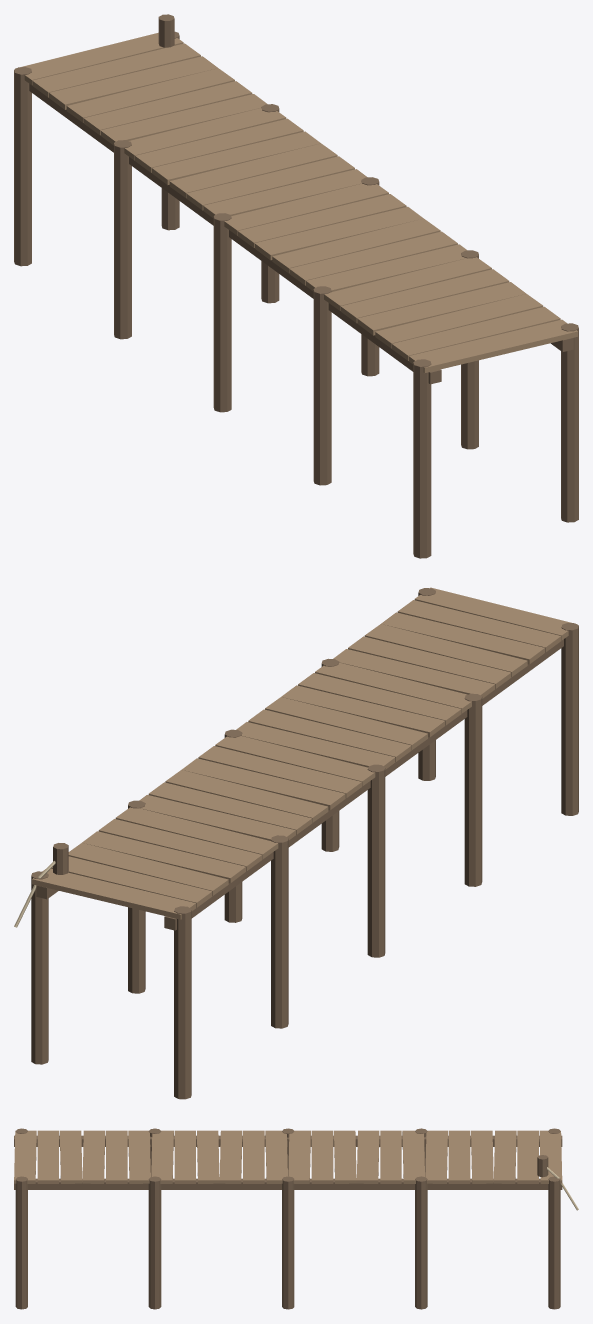
The model's file is dock.glb.
3 renders of one model, top to bottom at view 1: azimuth 30°, elevation 25°; view 2: azimuth 150°, elevation 25°; view 3: azimuth 270°, elevation 25°, orthographic. The views are drawn at different scales.
Visible parts, largest first — view 1: dock; view 2: dock; view 3: dock.
Boxes of the visible parts, bbox=[...] form: dock: bbox=[14, 14, 578, 558]; dock: bbox=[14, 587, 578, 1099]; dock: bbox=[14, 1128, 578, 1309].
Bounding box in the file's own units: 3.24 × 4.1 × 14.43.
